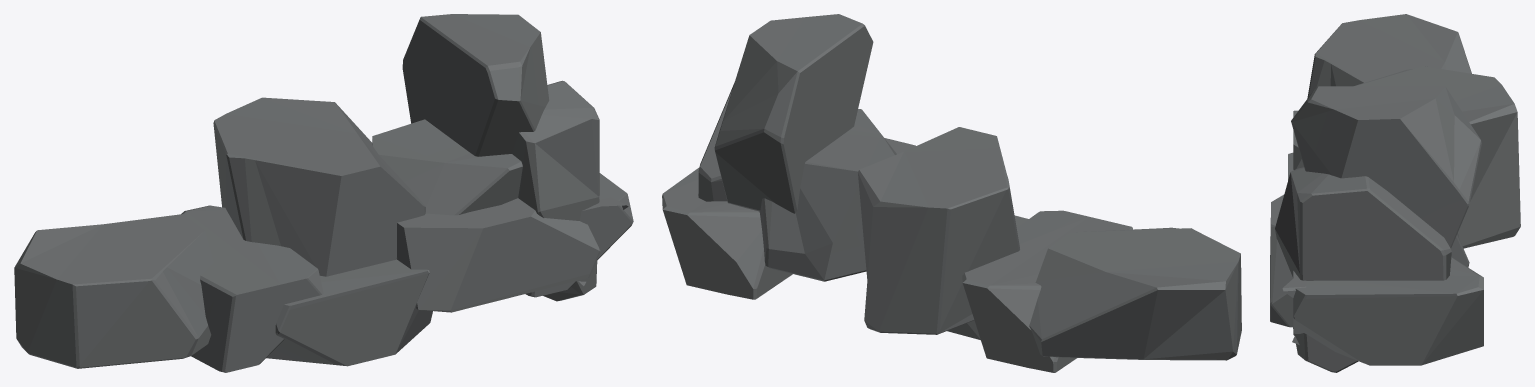
Rendered from FountainWallPiece3.fbx.
3 renders of one model, left to right at view 1: azimuth 30°, elevation 25°; view 2: azimuth 150°, elevation 25°; view 3: azimuth 270°, elevation 25°, orthographic. The views are drawn at different scales.
Parts seen in each view (by area): view 1: Rock 4.012; view 2: Rock 4.012; view 3: Rock 4.012.
Part boxes in pixels (x1,y1,x2,y2): Rock 4.012: (14, 14, 633, 372); Rock 4.012: (662, 14, 1241, 372); Rock 4.012: (1270, 14, 1520, 372).
Bounding box in the file's own units: 3441 × 1519 × 1411.
